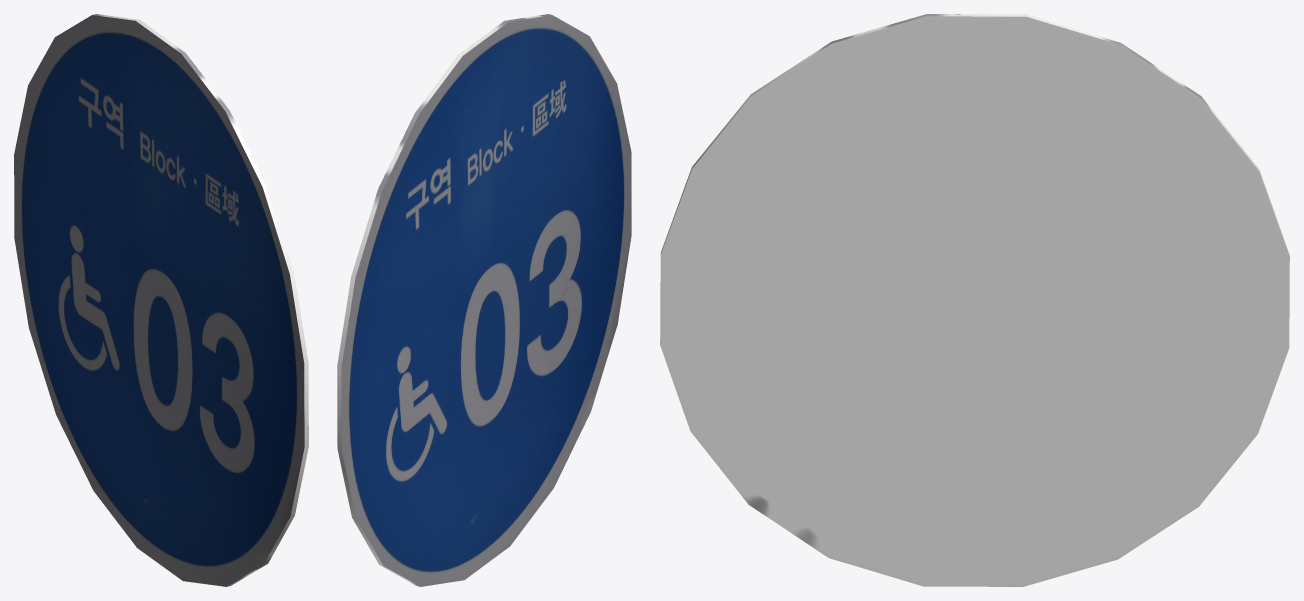
File: SM_022_Seat_14_3.fbx
The picture shows the model from 3 angles, left to right: view 1: azimuth 30°, elevation 25°; view 2: azimuth 150°, elevation 25°; view 3: azimuth 270°, elevation 25°; orthographic projection. The views are drawn at different scales.
Parts seen in each view (by area): view 1: SM_022_Seat_14_3; view 2: SM_022_Seat_14_3; view 3: SM_022_Seat_14_3.
Part boxes in pixels (box(x1,y1,x2,y2)): SM_022_Seat_14_3: box(14, 14, 308, 586); SM_022_Seat_14_3: box(337, 14, 631, 586); SM_022_Seat_14_3: box(660, 14, 1289, 586).
Bounding box in the file's own units: 0.3841 × 44.73 × 44.73.
1 material, 1 textured.
